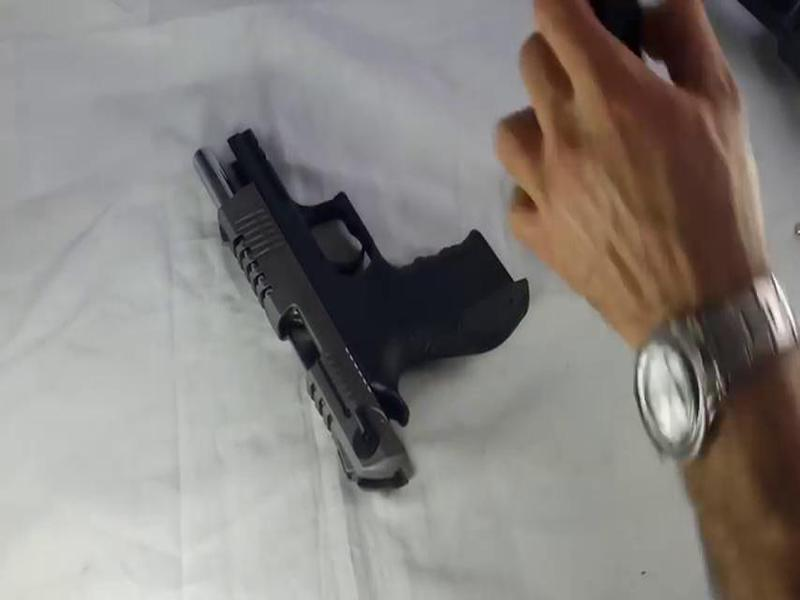Pistola: (189, 122, 540, 499)
